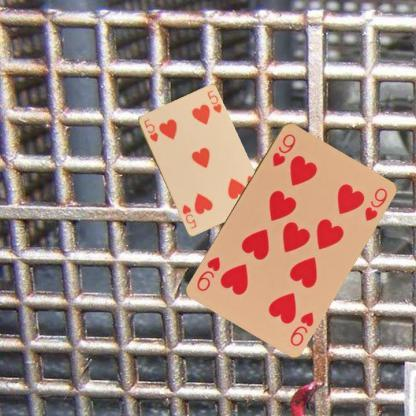5h: (141, 116, 159, 143)
9h: (287, 308, 315, 348), (269, 130, 297, 168)
